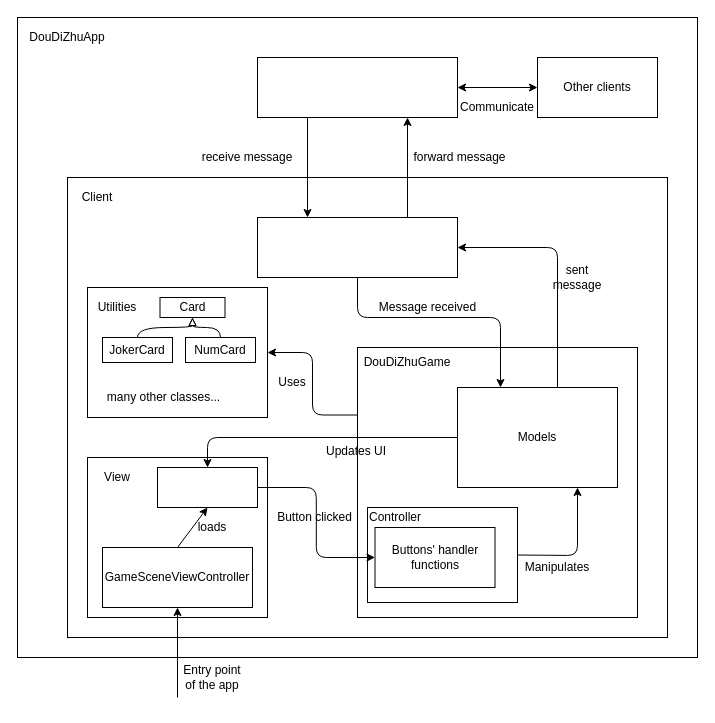
Some shapes in this 715 by 723 pixel diagram are drawn without their labels. The centre of each missing label's shape, as x and y in pixels:
"DouDiZhuAIServer" belongs at point 357,87.
"DouDiZhuClient" belongs at point 357,247.
"GameScene" belongs at point 207,487.
